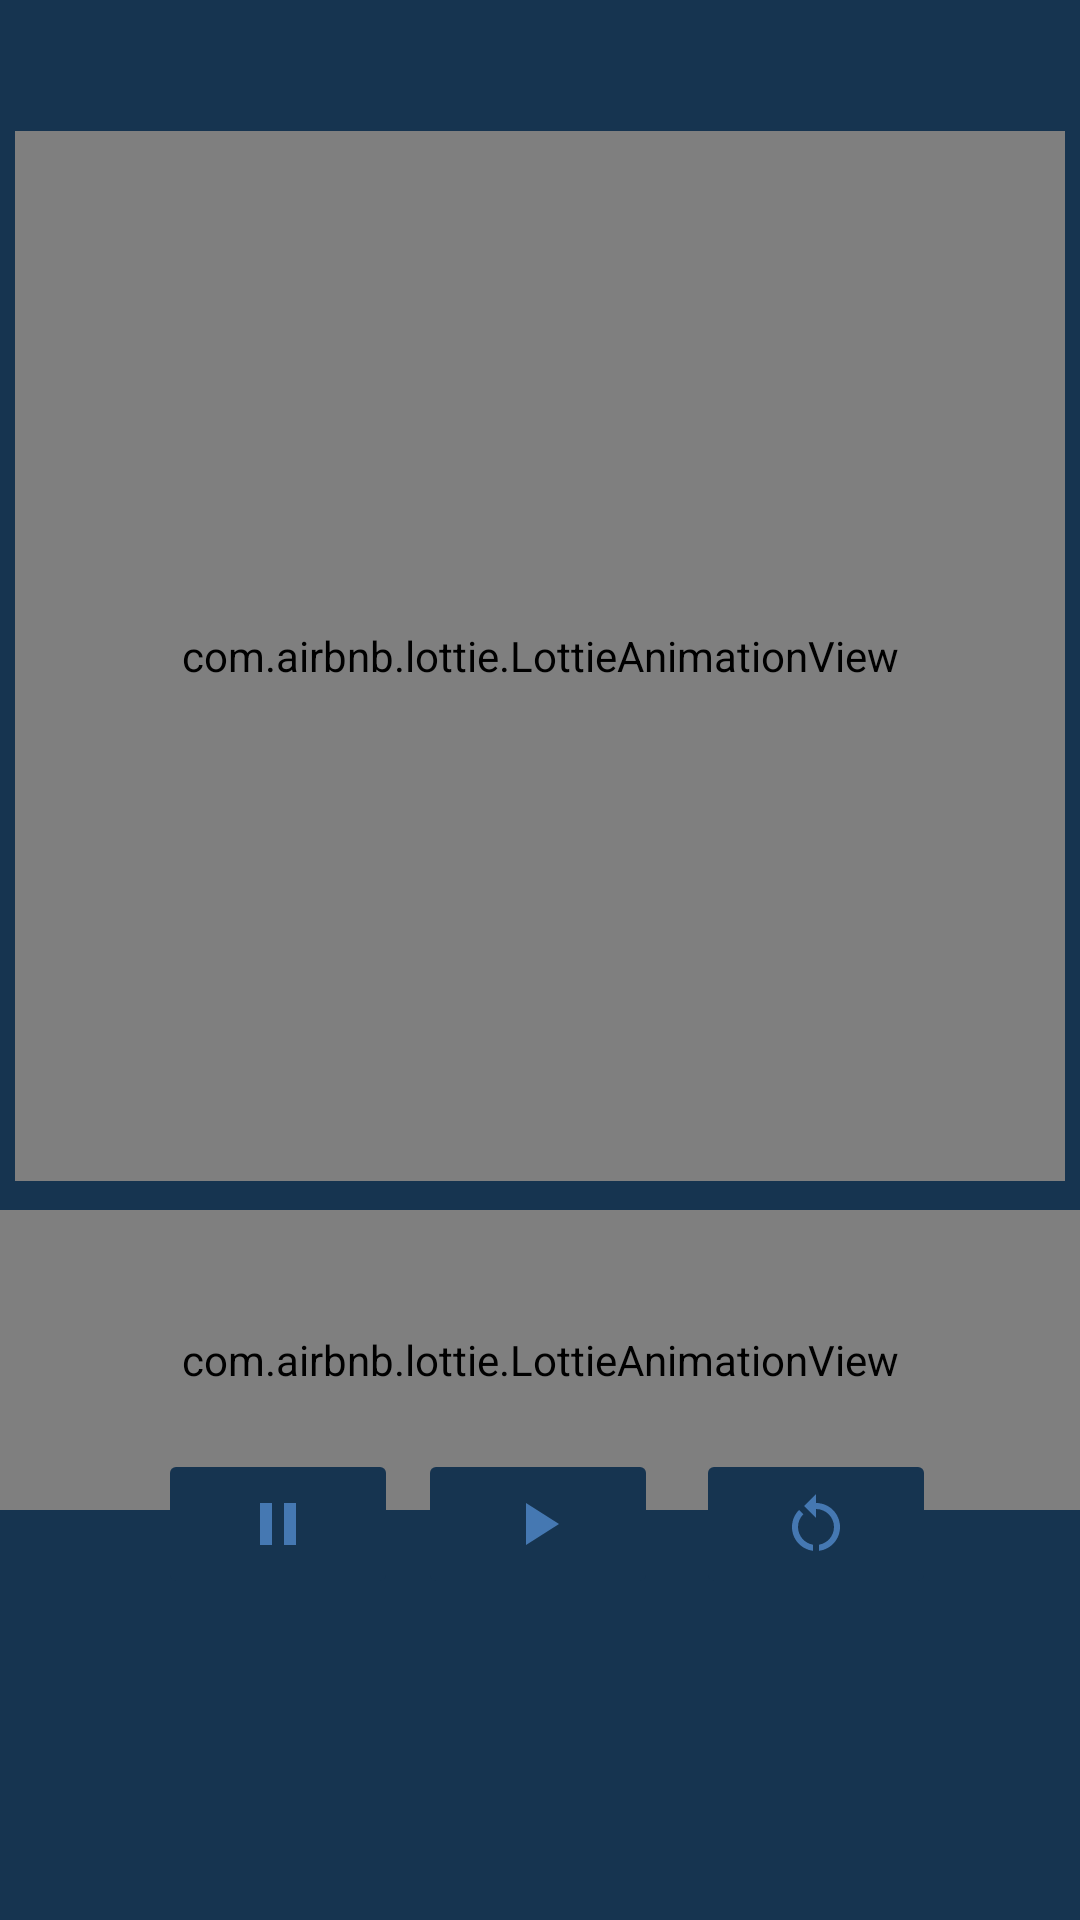

Icon click points for this 1080 x 1920 phone screenshot, format (x,y):
pause: (278,1524)
play arrow: (538,1524)
restart: (816,1524)
